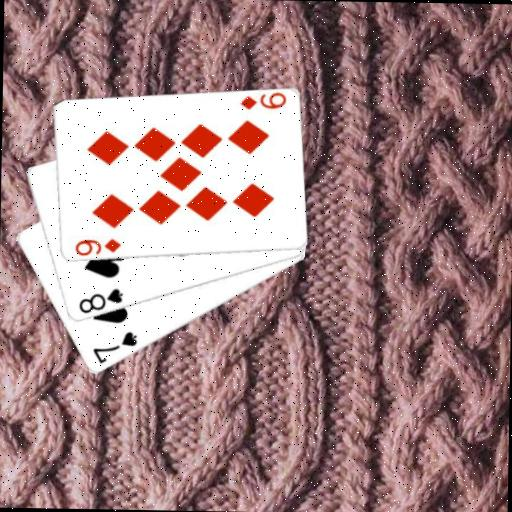7S: (89, 328, 139, 366)
8S: (75, 286, 125, 317)
9D: (71, 235, 122, 257), (236, 91, 287, 112)
